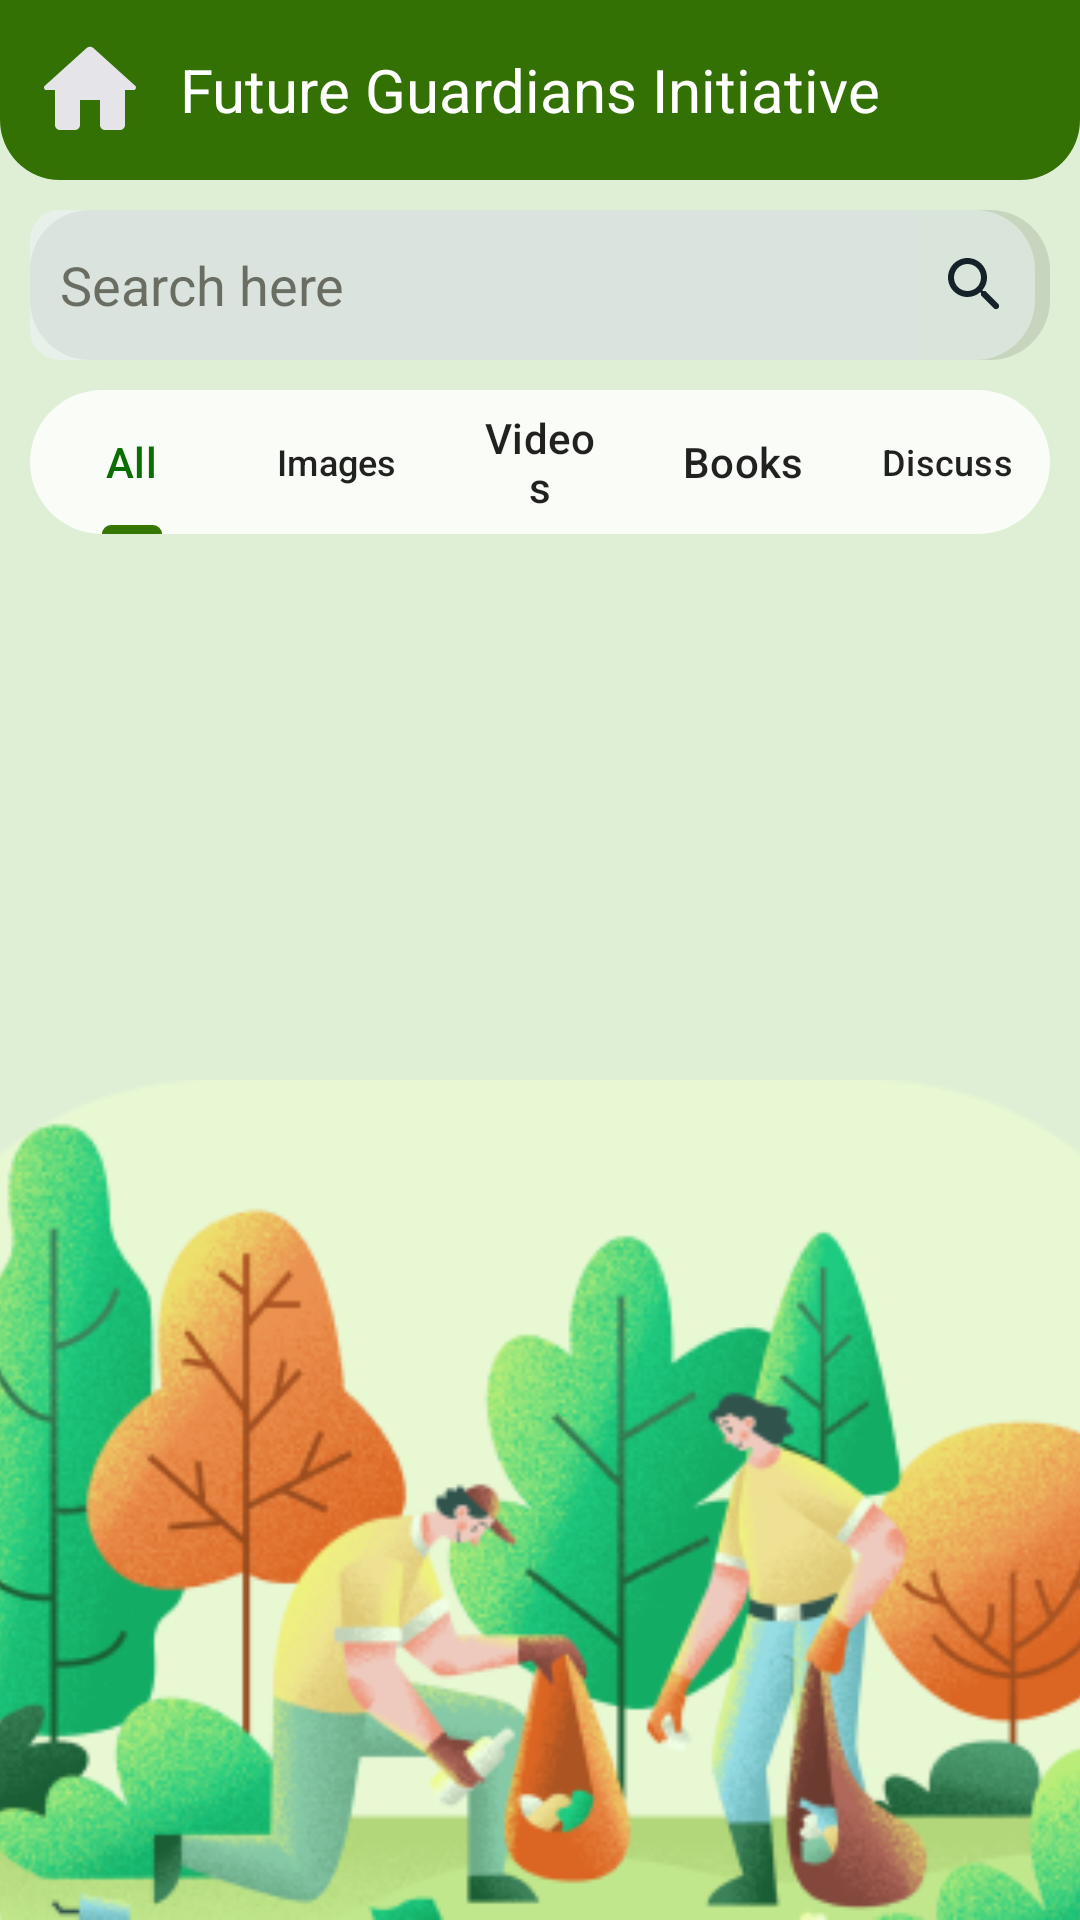

Icons on this 1080×1920 Android screen, each with the point to tap as (x,y):
home: (90,88)
